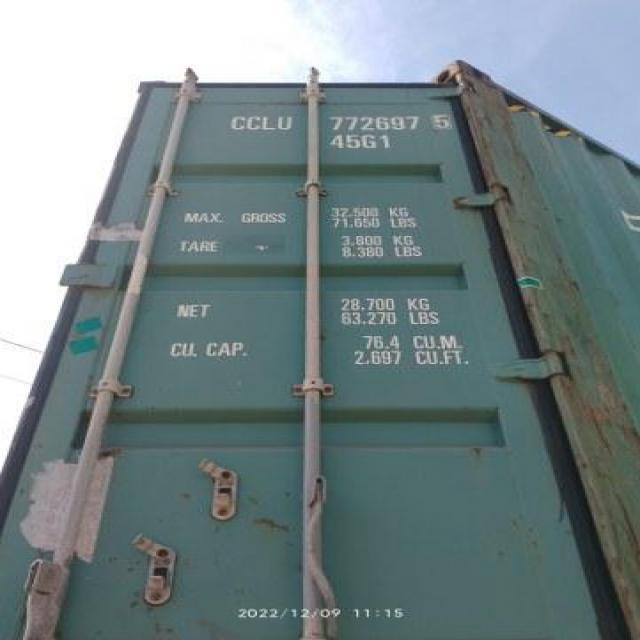container_number_h: (208, 102, 475, 191)
